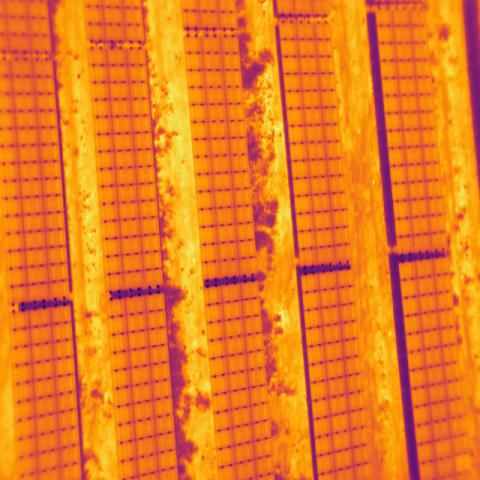fault: (454, 452, 473, 477)
